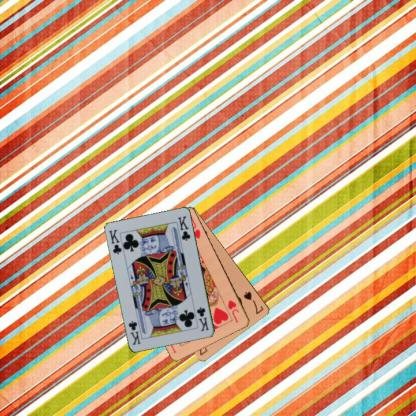7s: (241, 289, 265, 315)
Jh: (226, 298, 240, 324)
Kc: (106, 227, 123, 256), (194, 305, 210, 332)
